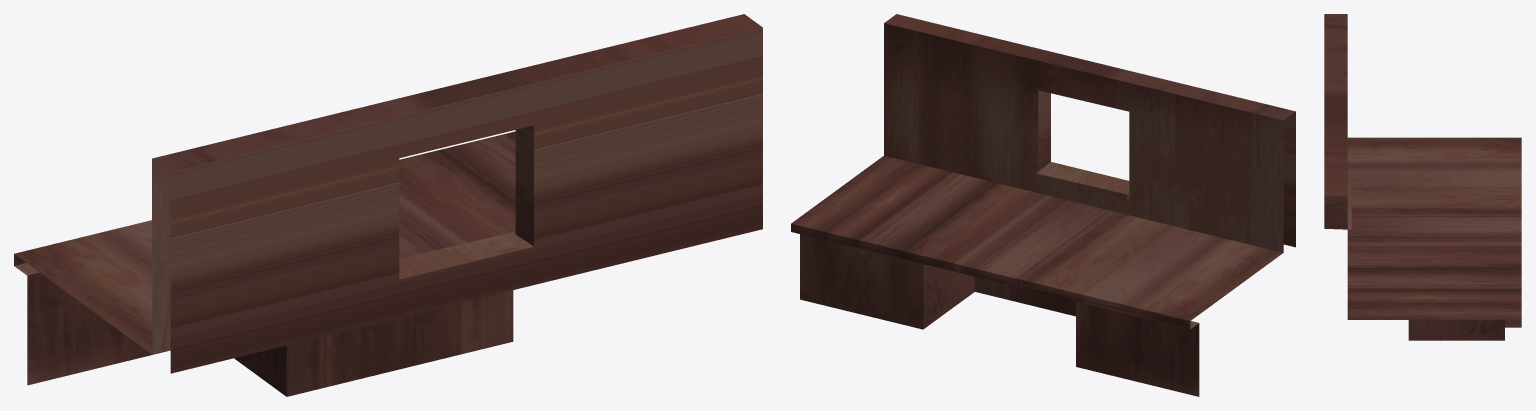
File: TableV3.fbx
3 views of the same model, side by side, from view 1: azimuth 30°, elevation 25°; view 2: azimuth 150°, elevation 25°; view 3: azimuth 270°, elevation 25° (orthographic). The views are drawn at different scales.
Parts seen in each view (by area): view 1: pCube1; view 2: pCube1; view 3: pCube1.
Part boxes in pixels (<box>): pCube1: <box>14,14,762,396</box>; pCube1: <box>791,14,1295,396</box>; pCube1: <box>1324,14,1521,340</box>.
Size of the model in its own units: 21.08 by 10.83 by 9.65.
1 material, 1 textured.
